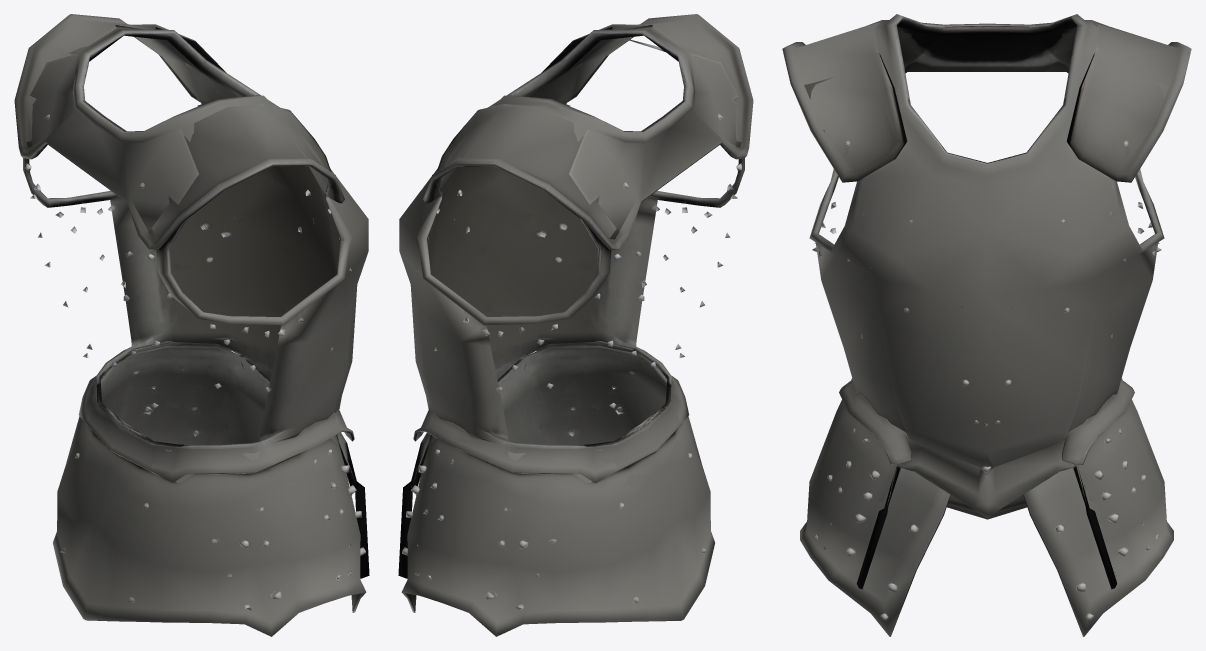
The model's file is wardens_cast_mail.glb.
3 views of the same model, side by side, from view 1: azimuth 30°, elevation 25°; view 2: azimuth 150°, elevation 25°; view 3: azimuth 270°, elevation 25° (orthographic).
Visible parts, largest first — view 1: base_model_path; view 2: base_model_path; view 3: base_model_path.
Part boxes in pixels (bbox=[...]): base_model_path: bbox=[14, 14, 369, 636]; base_model_path: bbox=[398, 14, 753, 636]; base_model_path: bbox=[782, 14, 1191, 636].
Bounding box in the file's own units: 0.4932 × 0.9962 × 0.6765.
Materials: 1 (1 with a texture image).
